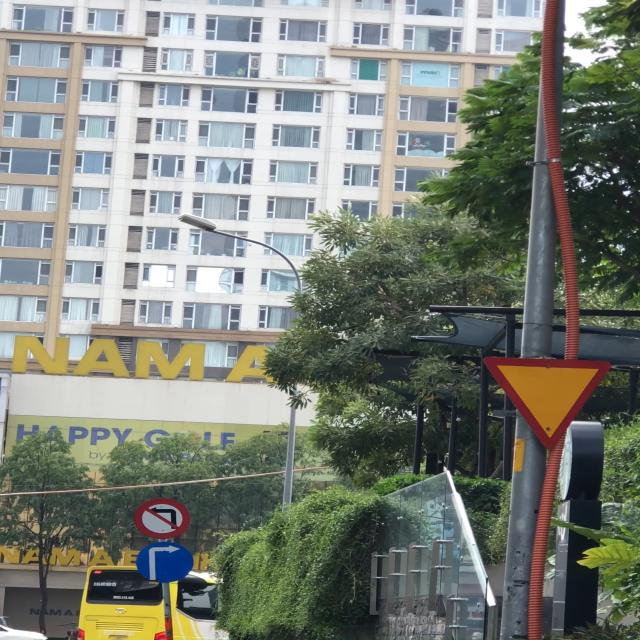Bien bao cam re trai: (134, 495, 192, 540)
Bien bao giao nhau voi duong uu tien: (473, 350, 625, 456)
Bien bao huong di phai theo: (136, 542, 196, 588)
